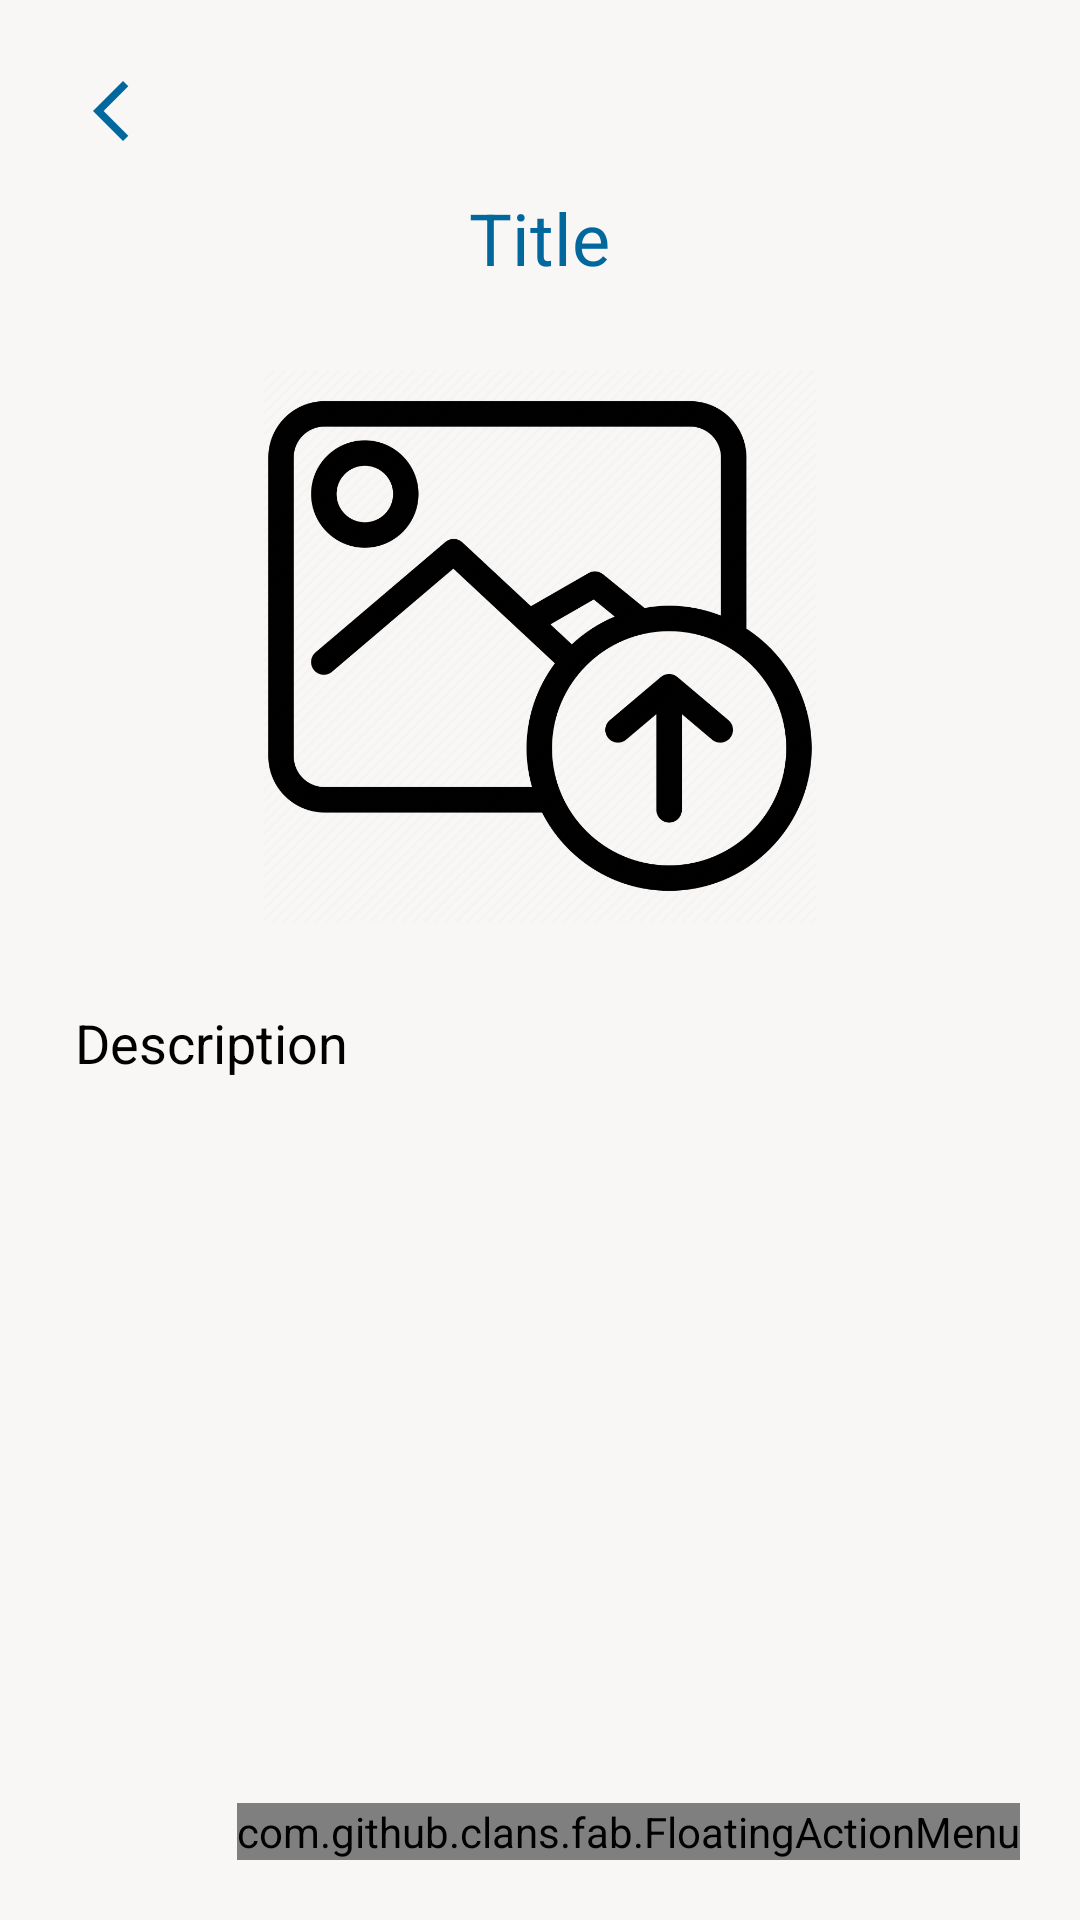

Point at icon controls on the screen. Image size 1080x1920, points as (x,y).
back: (110,111)
